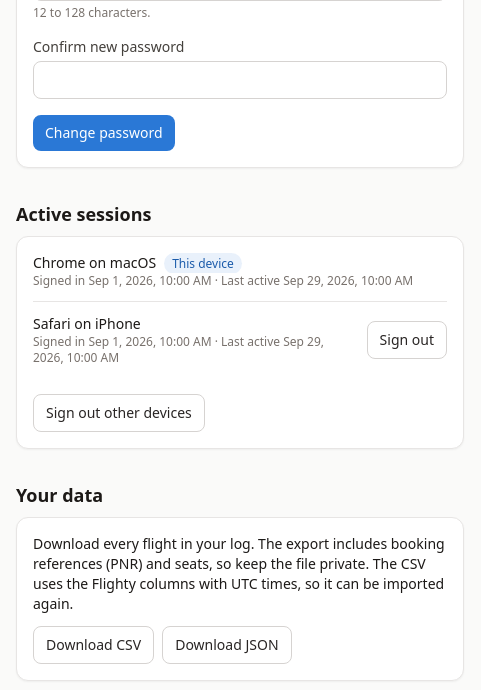
Test case: Sessions section › signs out one device
The width and height of the screenshot is (481, 690).
(page scrolled)
Step 1. Click the button with aria-label "Sign out Safari on iPhone" → click(407, 340), box [367,321,447,359]
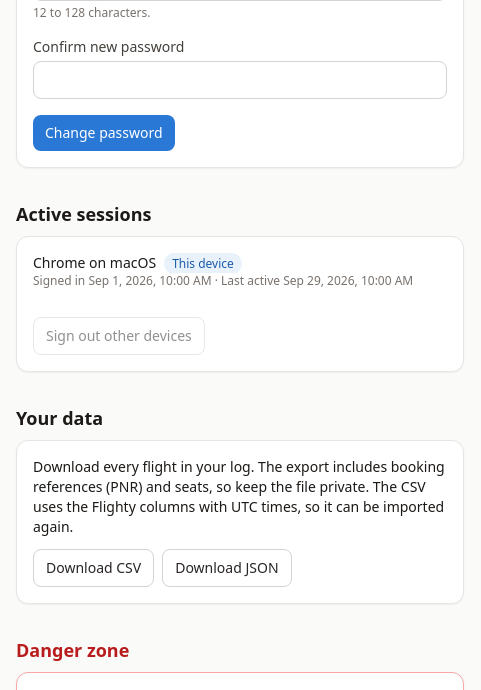
Check: the text "Safari on iPhone" is gone
